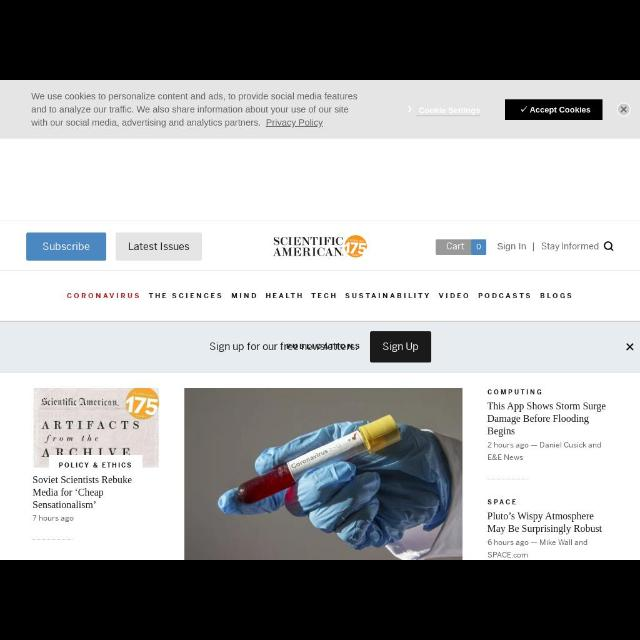button: (617, 103, 631, 117)
icon: (604, 241, 614, 251), (626, 342, 634, 352), (519, 106, 527, 112), (406, 106, 412, 114), (620, 106, 628, 112)
iframe: (0, 82, 638, 138), (1, 322, 640, 372)
image: (184, 388, 462, 560), (34, 388, 158, 468), (272, 235, 368, 257)
text: (30, 92, 358, 128), (487, 402, 605, 438), (32, 476, 132, 508), (68, 293, 572, 299), (488, 512, 602, 534), (488, 442, 602, 461), (488, 540, 588, 558), (210, 342, 360, 352), (540, 242, 600, 252), (418, 108, 480, 116), (128, 243, 190, 251), (530, 107, 590, 115), (44, 242, 90, 252), (383, 342, 419, 352), (488, 389, 542, 395), (498, 242, 526, 252), (32, 516, 74, 522), (488, 499, 516, 505), (446, 242, 466, 250), (476, 243, 482, 250)
textbutton: (116, 233, 202, 261), (27, 233, 107, 261), (505, 100, 603, 120), (371, 332, 432, 362)
toolbar: (1, 222, 640, 270)
